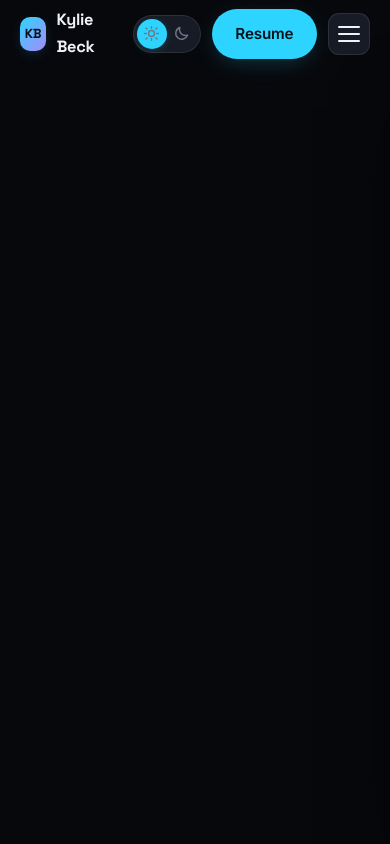
Test: Navbar › closes the drawer on Escape
Click the button named "Open menu" at (349, 34), box 328,13 -> 370,55
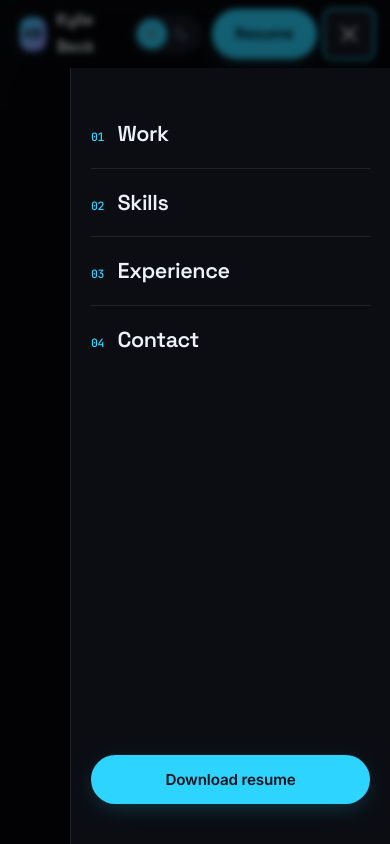
Press Escape
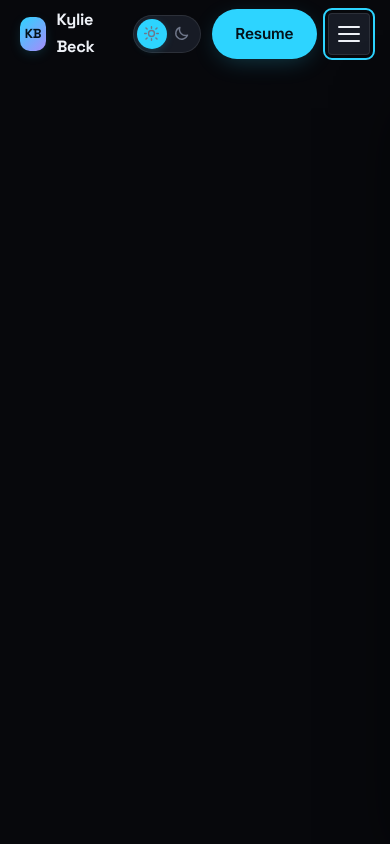
expect the button named "Open menu" is shown: met, box 328,13 -> 370,55
